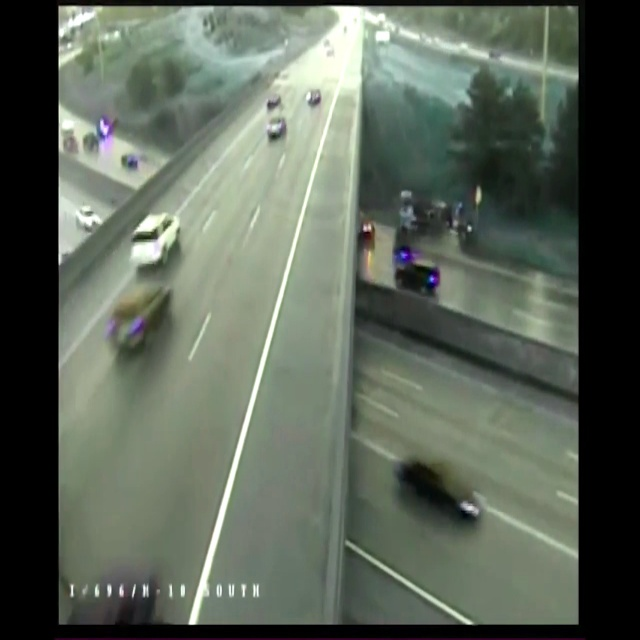acc: (387, 183, 475, 260)
